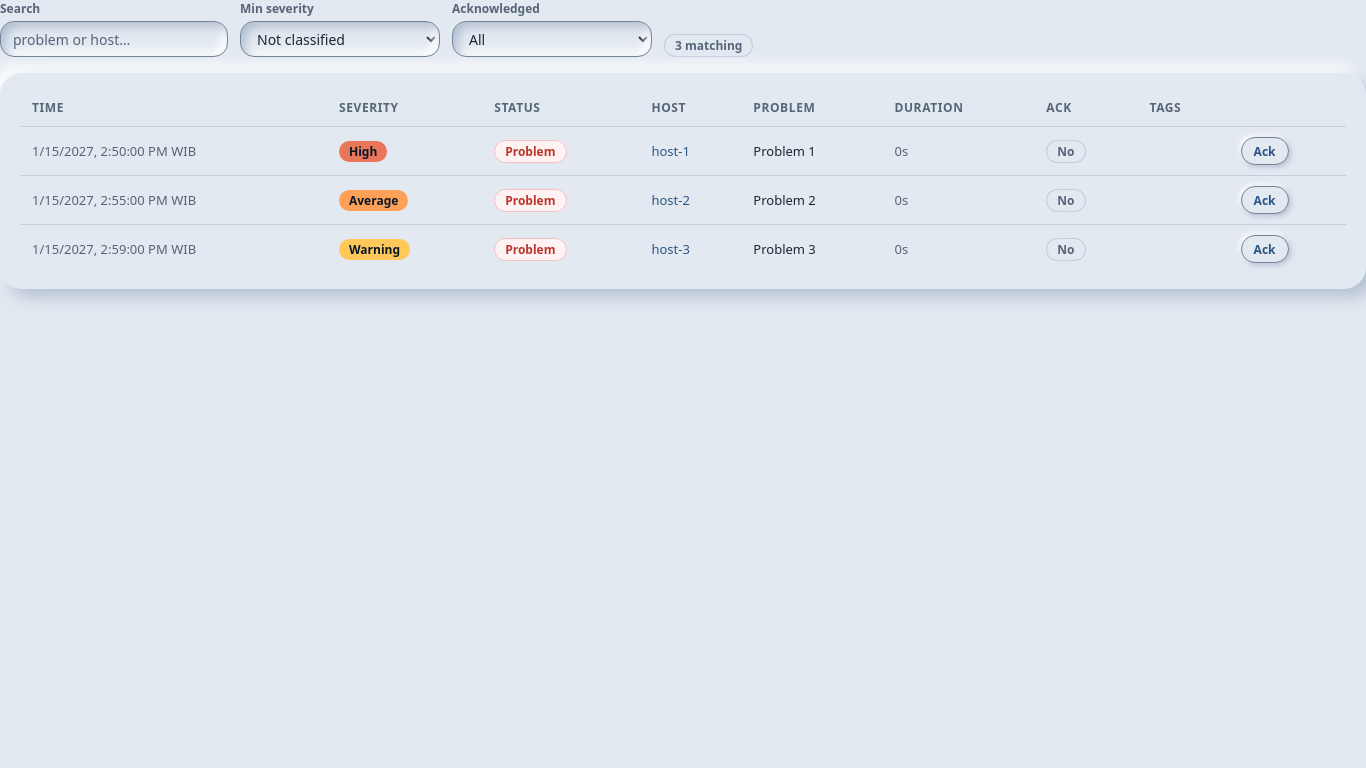
Test: a close Zabbix has not applied (IN-06) › reads the list every 30 s again, not every 3 s, once it has said so
This screenshot has width=1366, height=768.
Check: the row that starts with "1/15/2027, 2:50:00 PM WIB" is shown, box [20,126,1346,176]
Click the button "Ack" in the row of "1/15/2027, 2:50:00 PM WIB".
click(1265, 151)  # box [1241,137,1288,165]
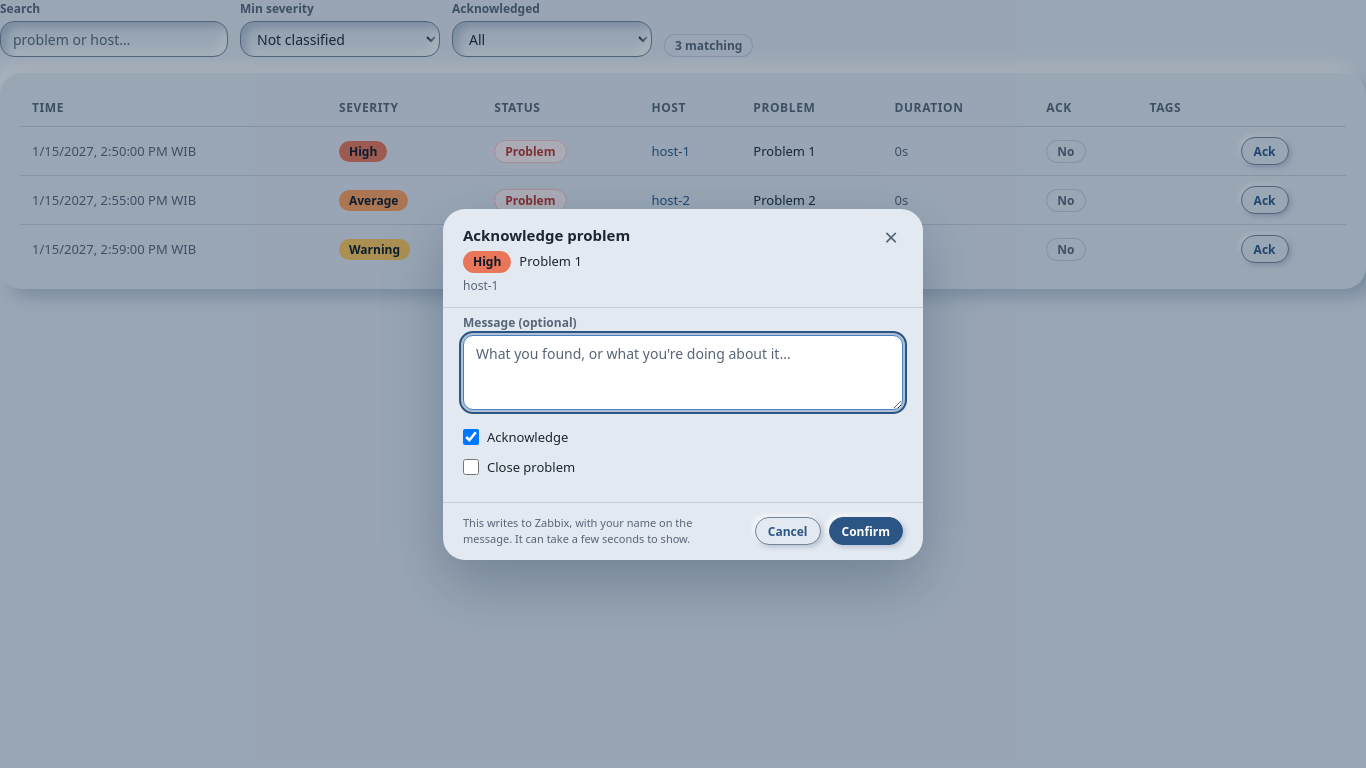
Click the checkbox labelled "Close problem".
click(471, 466)  # box [463,458,479,474]
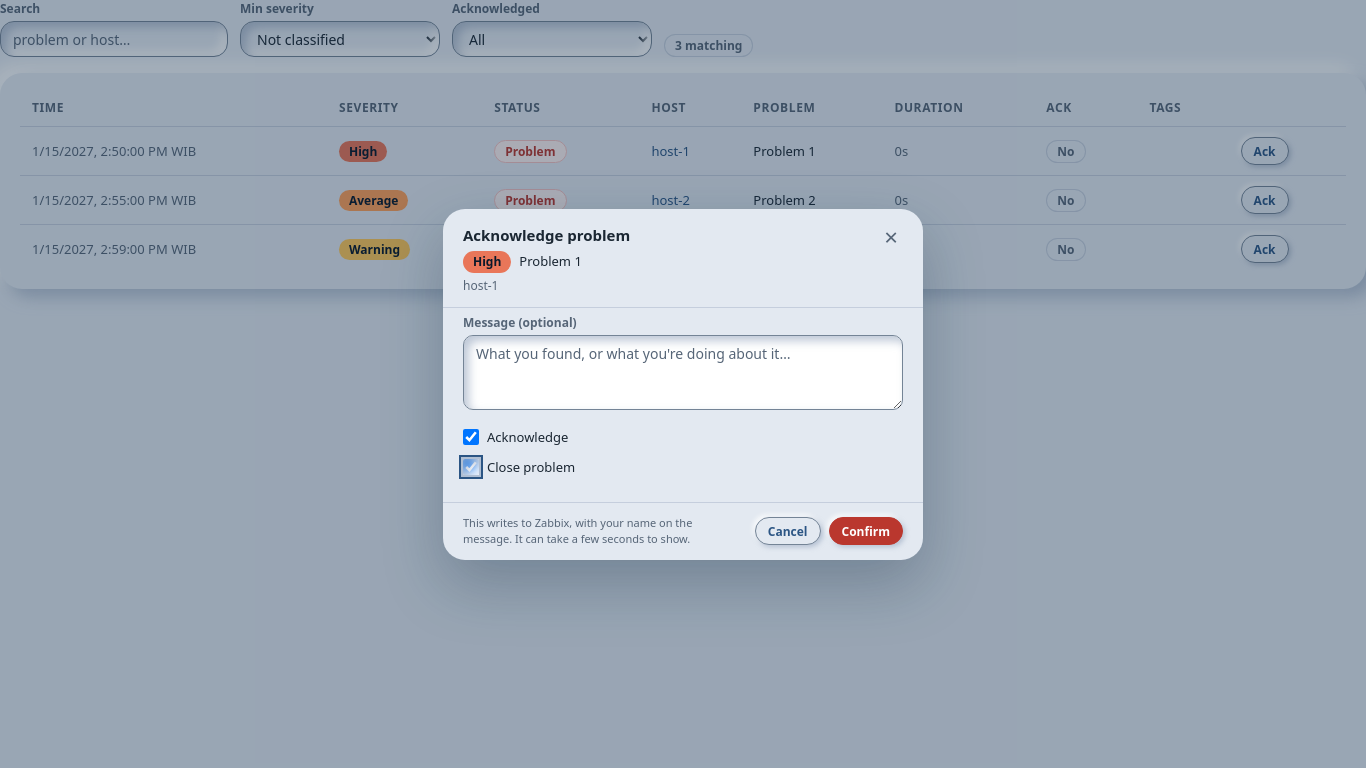
Click the button "Confirm".
click(866, 531)  # box [828,517,903,545]
Wait 93000 ms
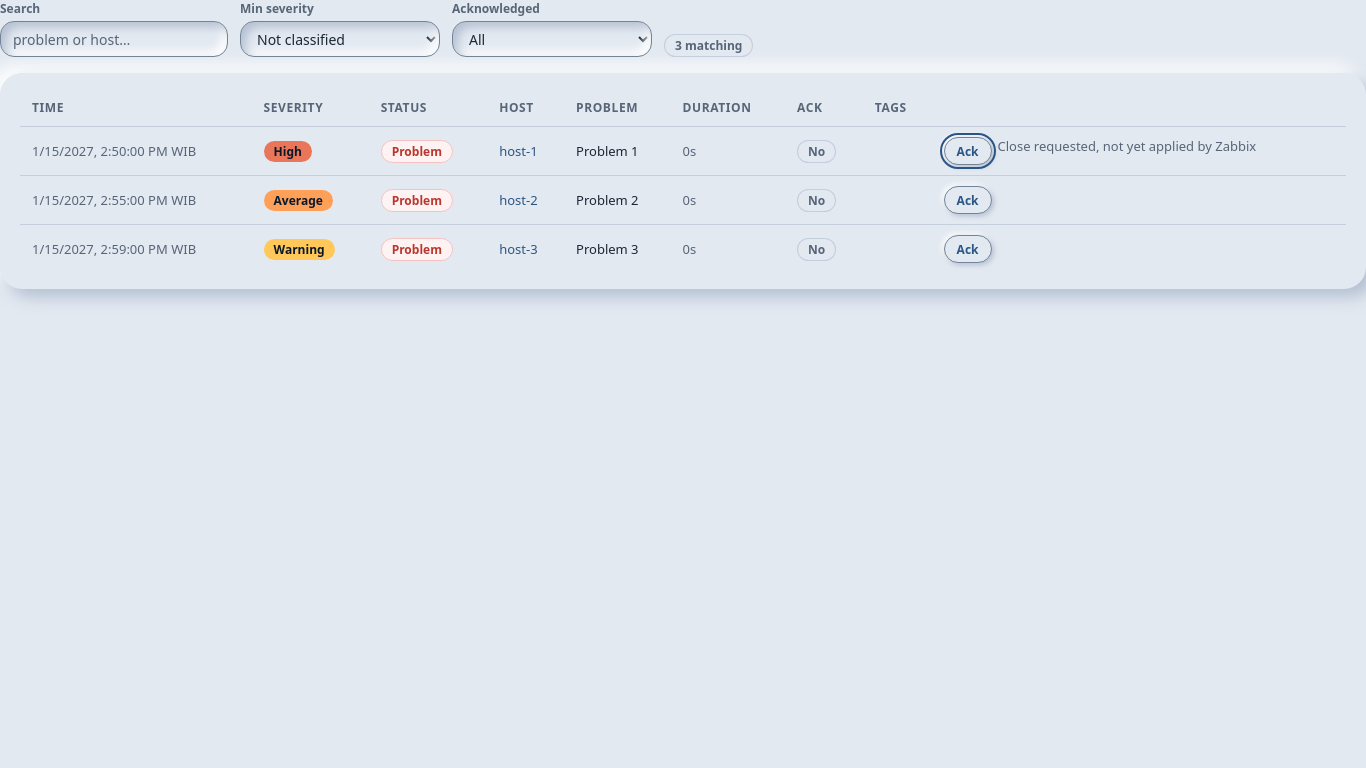
Check: the text "Close requested, not yet applied by Zabbix" is shown, box [998,137,1256,165]
